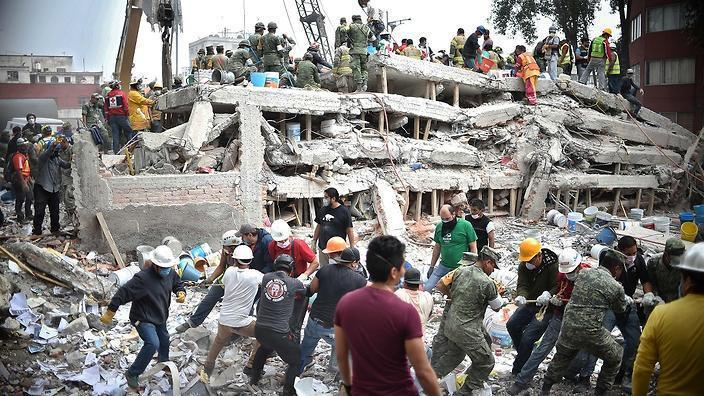destroyed: (96, 44, 704, 227)
